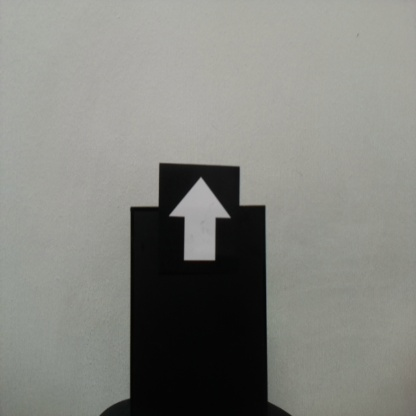id_1: (160, 164, 240, 278)
